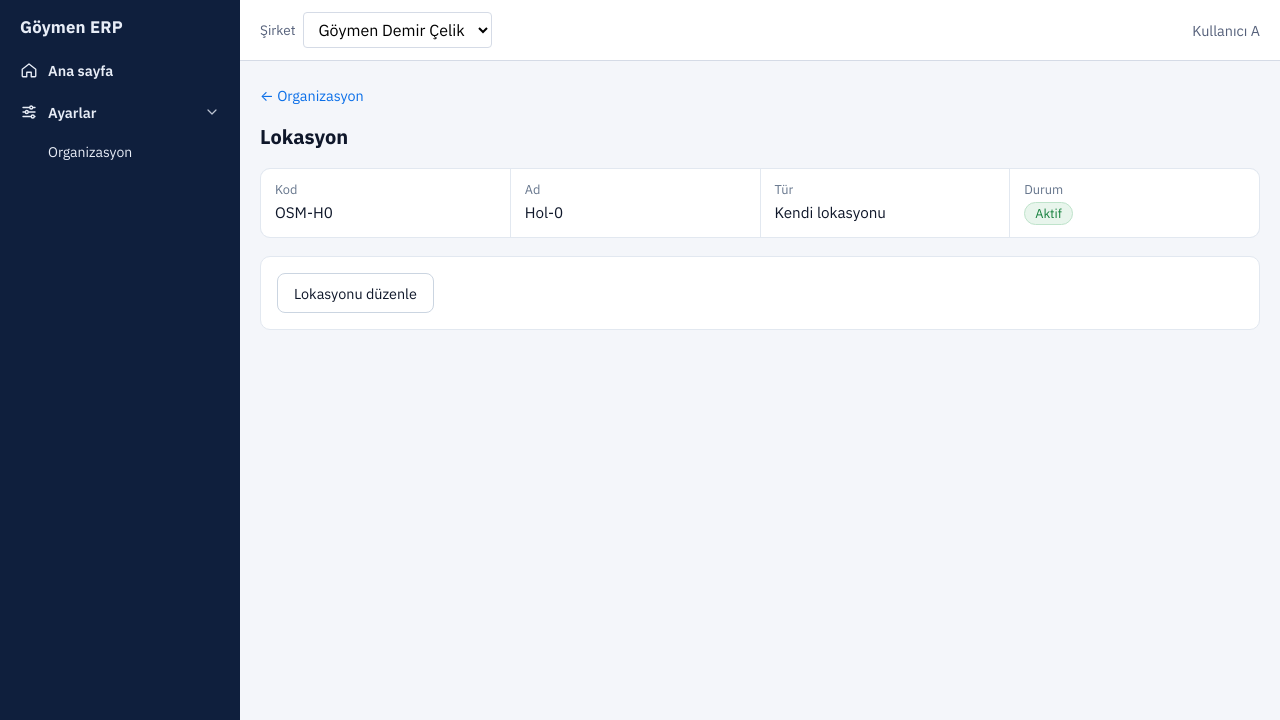
Test: location edit (ORG-02) › saves code and name with the read version and a key, then shows the re-read card
Click the button "Lokasyonu düzenle" at [355, 293], box [277,273,434,313]
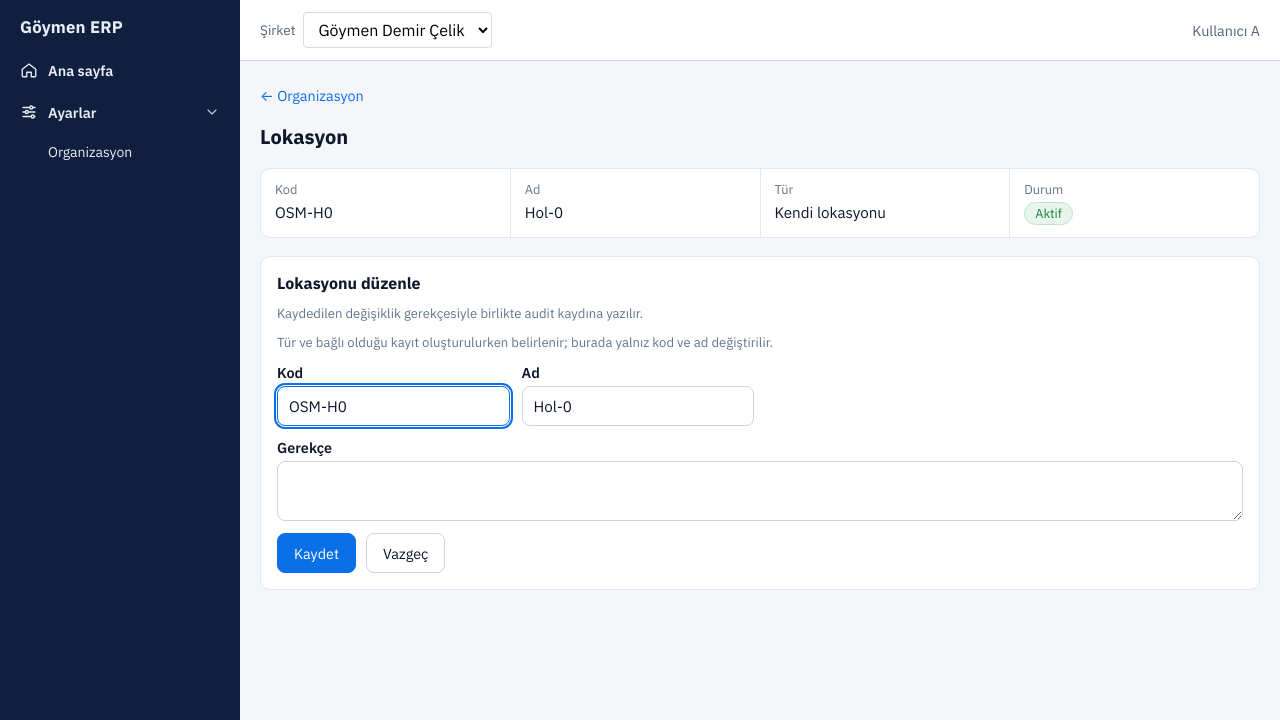
Replace the text in the field labelled "Ad" with "Hol-0 Boya" at [638, 406], box [522,386,754,426]
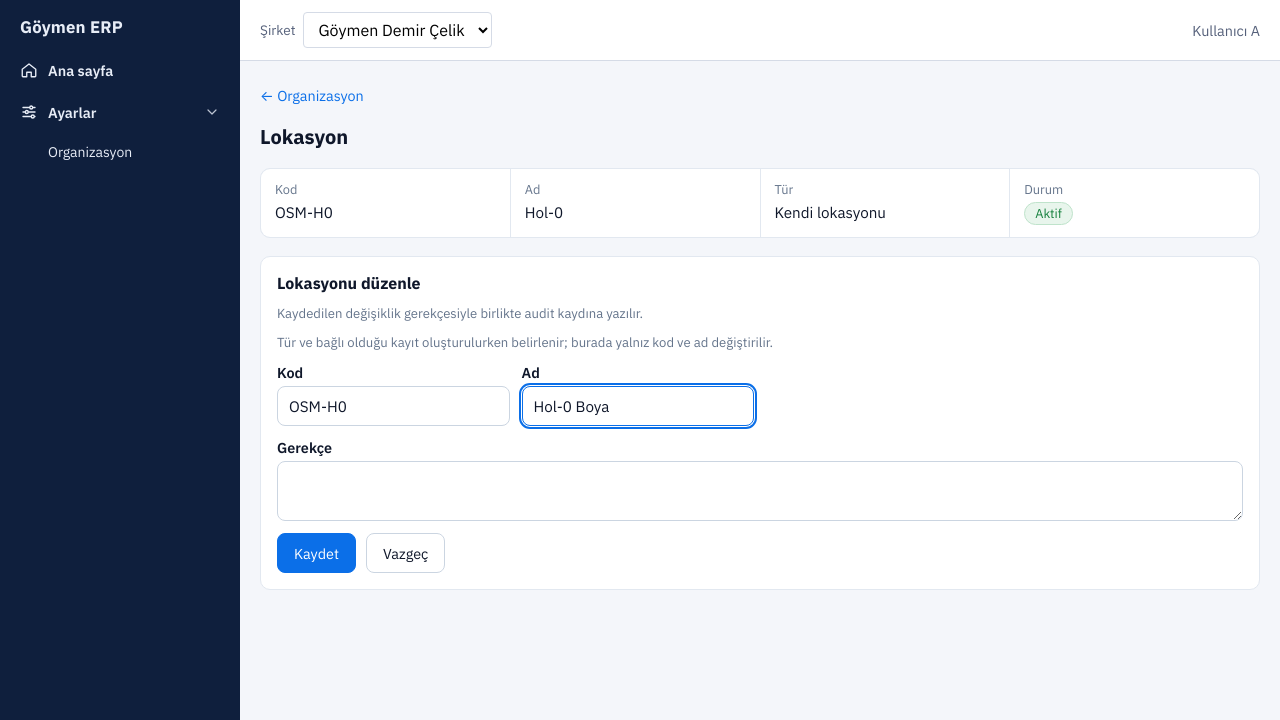
Type "Ad netleştirildi" into the text box labelled "Gerekçe" at [760, 491], box [277,461,1243,521]
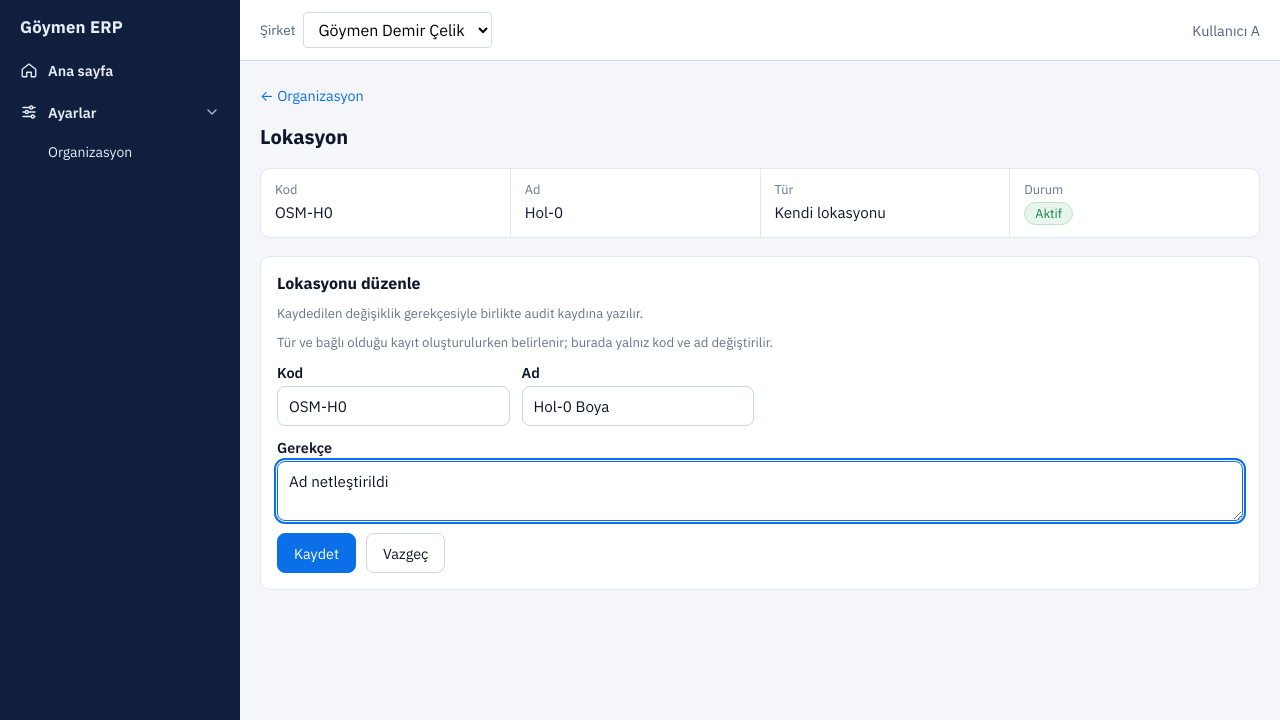
Click the button "Kaydet" at [316, 553], box [277,533,356,573]
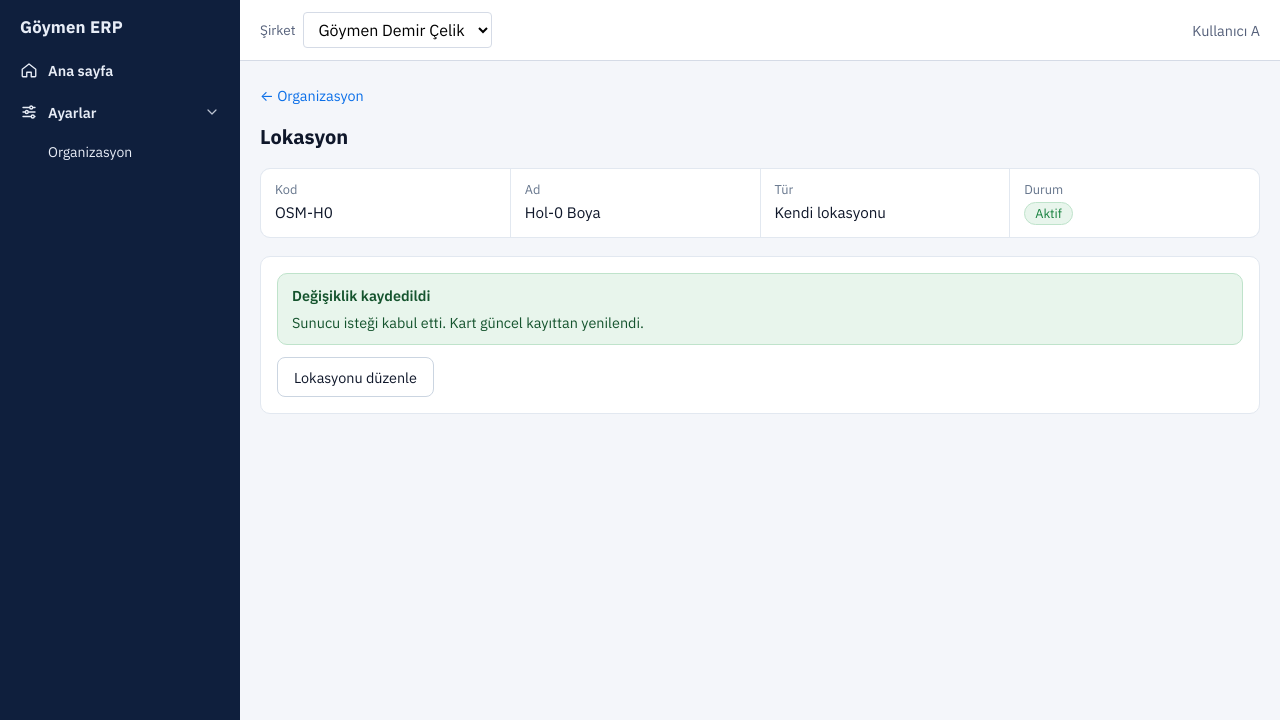
Check: the text "Değişiklik kaydedildi" is shown, box [292,286,430,305]
Check: the text "Hol-0 Boya" is shown, box [525,202,601,222]
